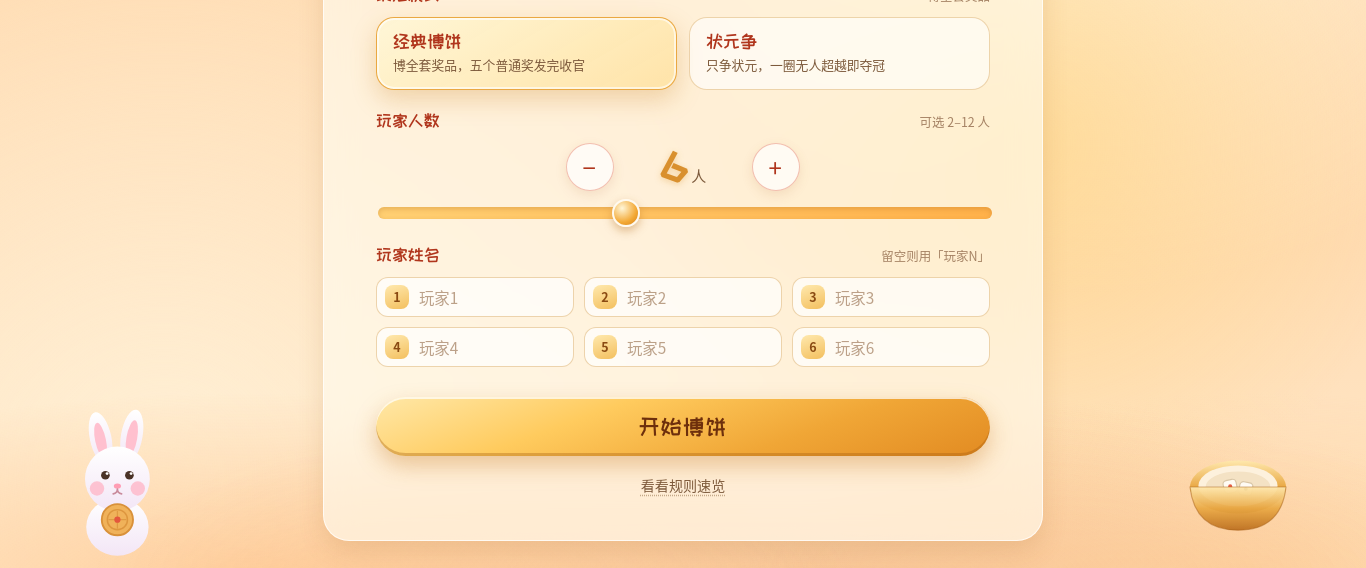
Test case: 应用整体流程 › 状元争：开始界面可切换玩法，规则速览随之切换
The width and height of the screenshot is (1366, 568).
(page scrolled)
Click the button with class "rules-toggle". click: (683, 485)
box: [635, 474, 731, 496]
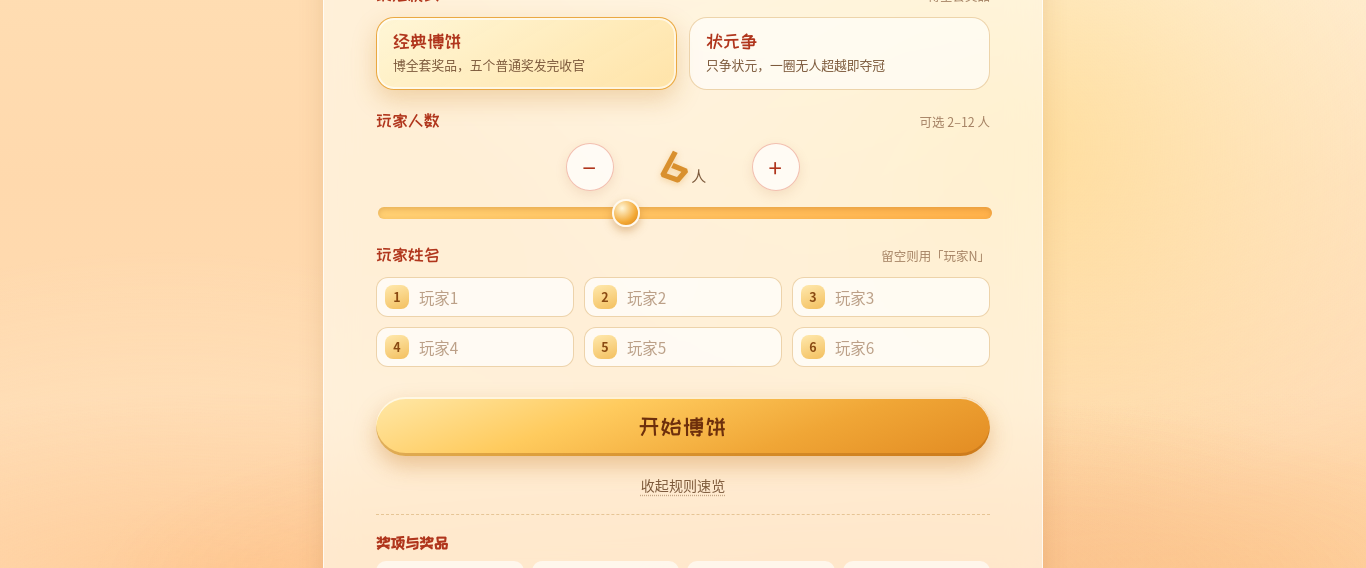
Click the button with class "mode-card" showing "状元争 只争状元，一圈无人超越即夺冠". click: (840, 53)
box: [689, 17, 990, 90]
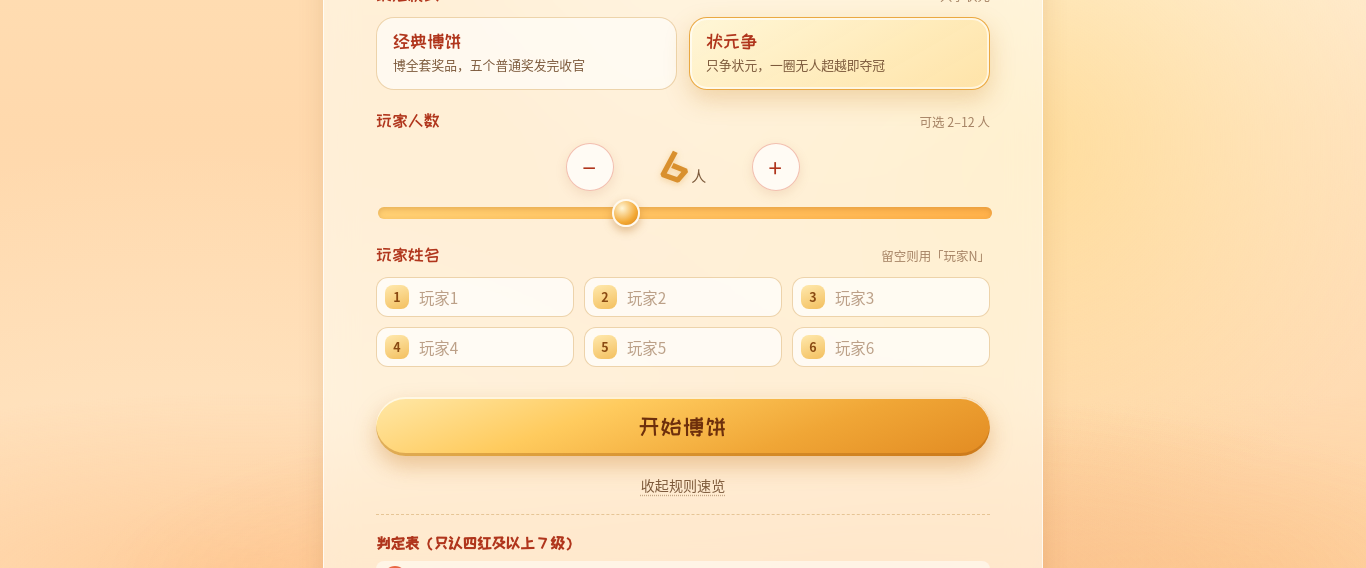
Click the button with class "mode-card" showing "经典博饼 博全套奖品，五个普通奖发完收官". click: (526, 53)
box: [376, 17, 677, 90]
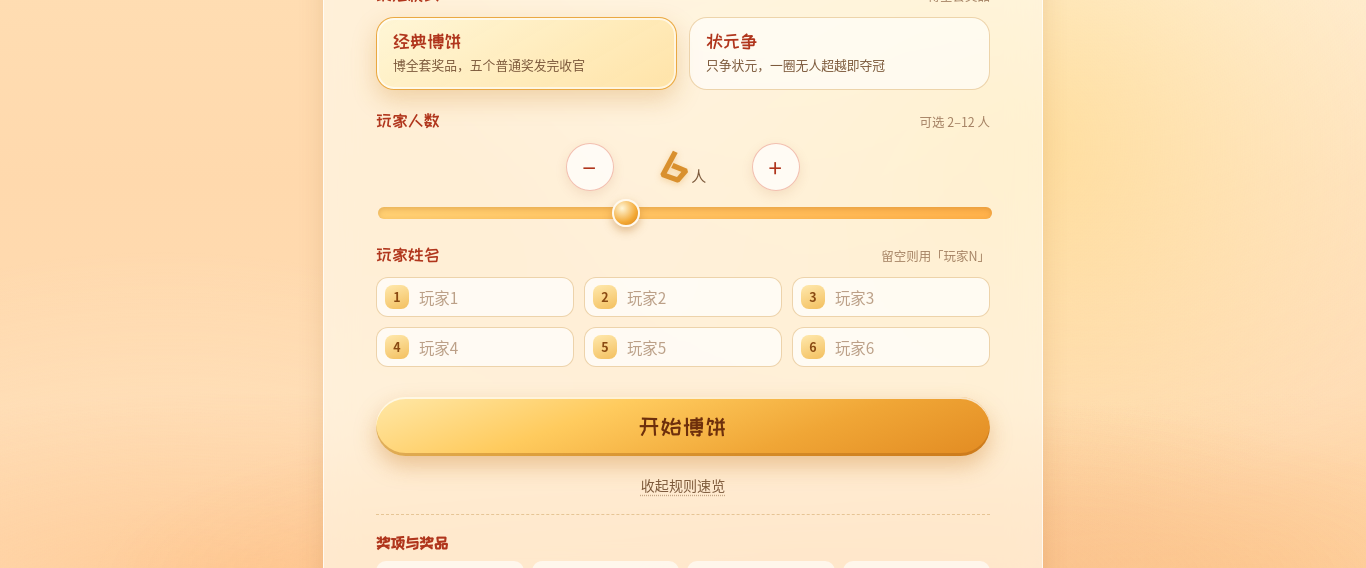
expect no lists with class "rules-table--duel" are shown: met
